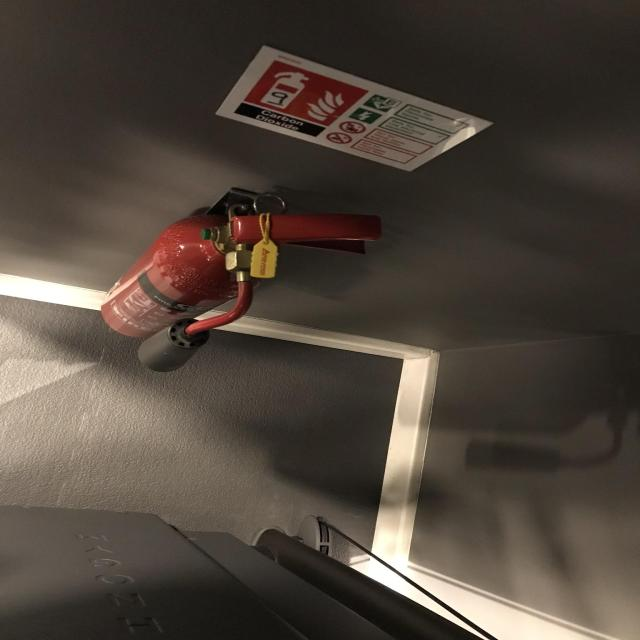fire_extinguisher: (94, 200, 388, 372)
